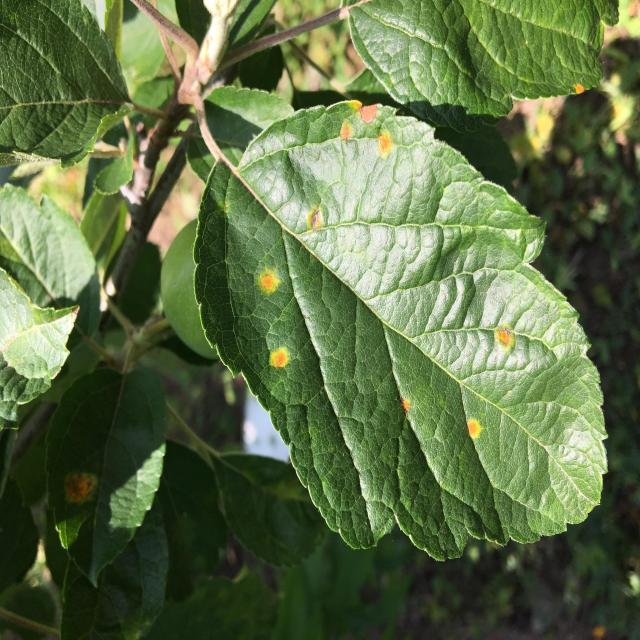Rust: (57, 468, 104, 511), (258, 256, 286, 308), (371, 120, 398, 163), (265, 342, 294, 378), (493, 318, 516, 355), (334, 115, 357, 150), (306, 206, 329, 238), (569, 72, 589, 103), (464, 416, 484, 446), (397, 391, 414, 425), (587, 613, 608, 640)
